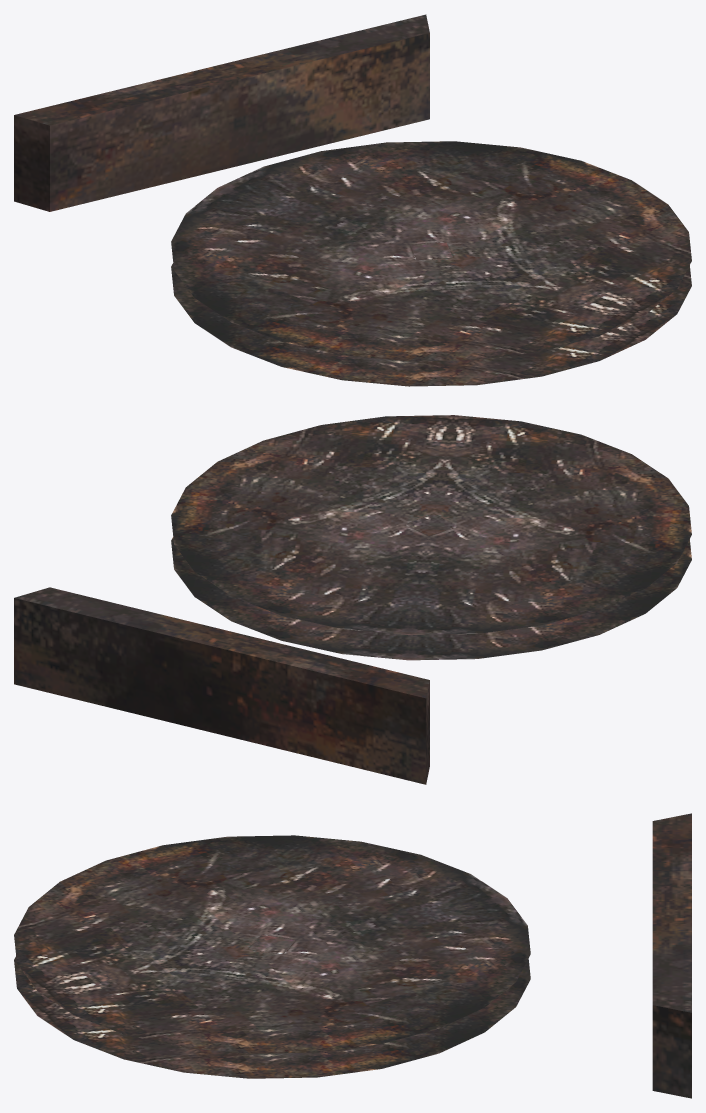
File: p6_zm_nuked_table_art_LOD2.obj
3 views of the same model, one above another, from view 1: azimuth 30°, elevation 25°; view 2: azimuth 150°, elevation 25°; view 3: azimuth 270°, elevation 25° (orthographic).
Parts seen in each view (by area): view 1: mtl_p6_zm_nuked_table_art; view 2: mtl_p6_zm_nuked_table_art; view 3: mtl_p6_zm_nuked_table_art.
Boxes of the visible parts, x1,y1,x2,y2 form: mtl_p6_zm_nuked_table_art: [14, 14, 691, 386]; mtl_p6_zm_nuked_table_art: [14, 415, 691, 784]; mtl_p6_zm_nuked_table_art: [14, 813, 691, 1098].
Bounding box in the file's own units: 50.11 × 9.17 × 65.74.
